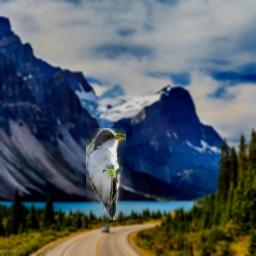Cuckoo: (86, 128, 126, 220)
